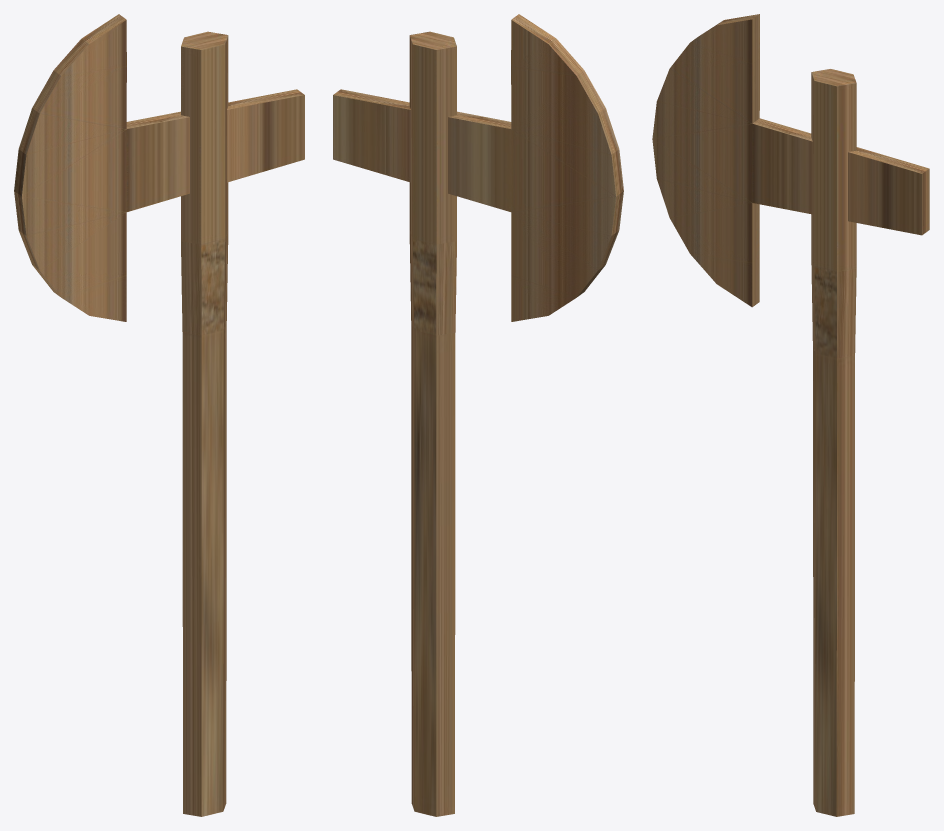
Rendered from wooden-axe.obj.
3 views of the same model, side by side, from view 1: azimuth 30°, elevation 25°; view 2: azimuth 150°, elevation 25°; view 3: azimuth 330°, elevation 25° (orthographic). The views are drawn at different scales.
Visible parts, largest first — view 1: Mesh_Mesh_KingdomAxe_Cube.; view 2: Mesh_Mesh_KingdomAxe_Cube.; view 3: Mesh_Mesh_KingdomAxe_Cube..
Boxes of the visible parts, left/top/right/bottom form: Mesh_Mesh_KingdomAxe_Cube.: left=14, top=14, right=304, bottom=816; Mesh_Mesh_KingdomAxe_Cube.: left=333, top=14, right=623, bottom=816; Mesh_Mesh_KingdomAxe_Cube.: left=652, top=14, right=929, bottom=816.
Size of the model in its own units: 0.6093 by 1.67 by 0.0646.
Materials: 2 (2 with a texture image).
